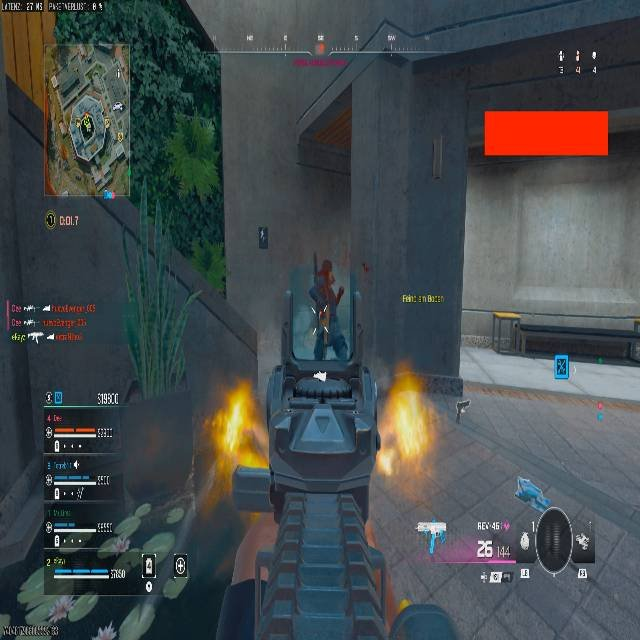player: (310, 260, 347, 358)
